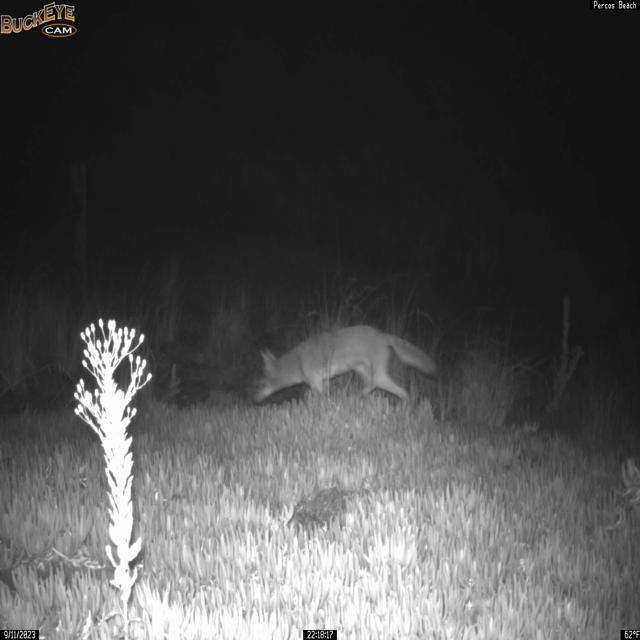coyote: (252, 324, 439, 408)
